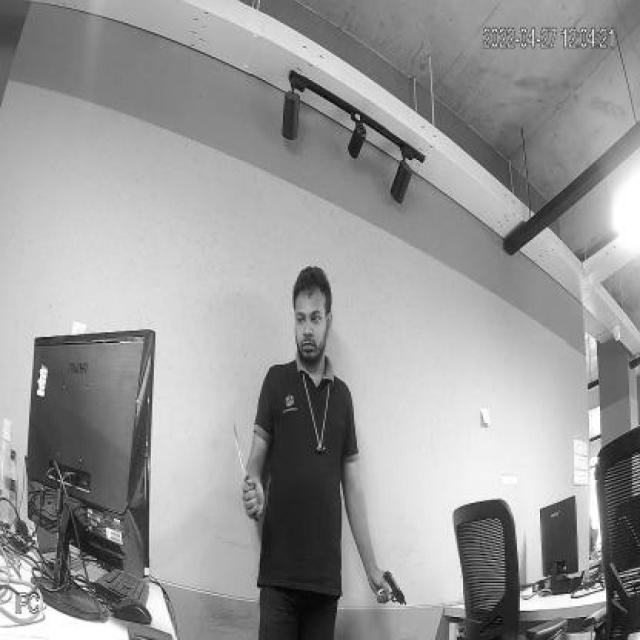weapon: (374, 568, 408, 609)
